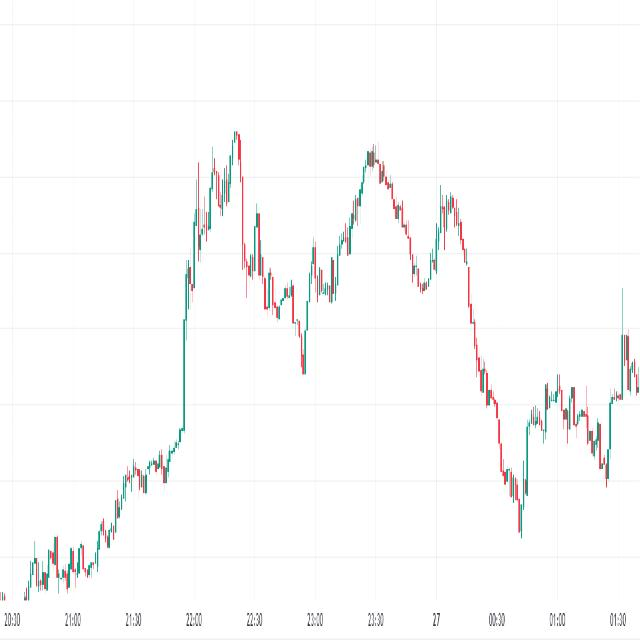Inverse-Head-Shoulders: (234, 125, 378, 392)
